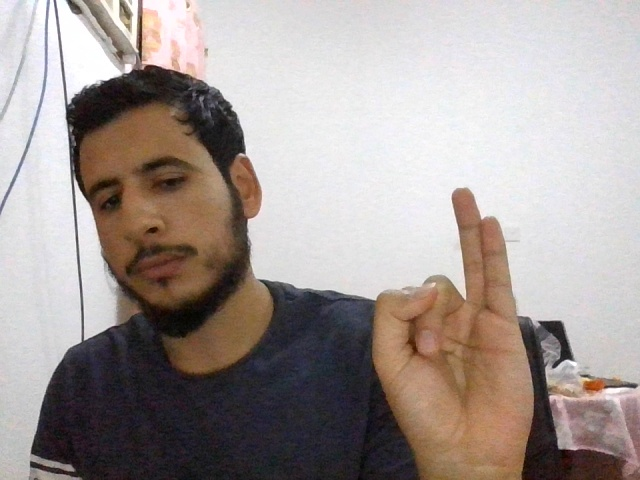Two: (371, 188, 535, 473)
